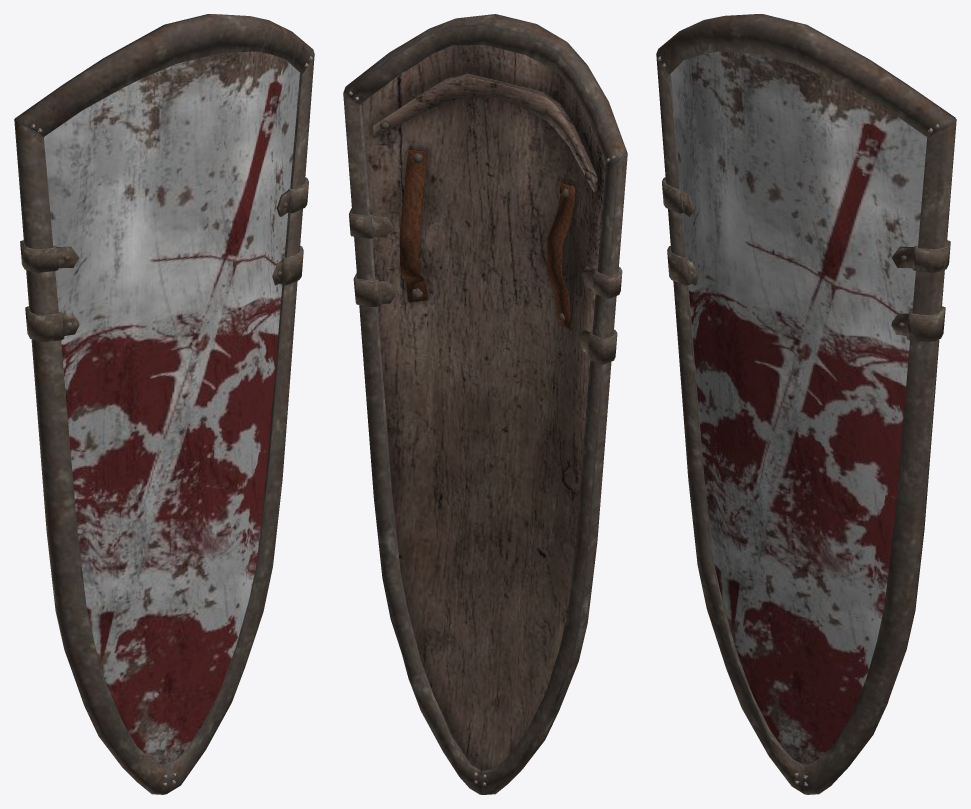
The model's file is weapon_shield_kite_01.glb.
The picture shows the model from 3 angles, left to right: view 1: azimuth 30°, elevation 25°; view 2: azimuth 150°, elevation 25°; view 3: azimuth 330°, elevation 25°; orthographic projection. The views are drawn at different scales.
Visible parts, largest first — view 1: weapon_shield_kite_01; view 2: weapon_shield_kite_01; view 3: weapon_shield_kite_01.
Part boxes in pixels (left/top/right/bottom): weapon_shield_kite_01: left=14, top=14, right=314, bottom=794; weapon_shield_kite_01: left=343, top=14, right=627, bottom=794; weapon_shield_kite_01: left=656, top=14, right=956, bottom=794.
Bounding box in the file's own units: 0.5434 × 1.39 × 0.1344.
2 materials, 2 textured.
